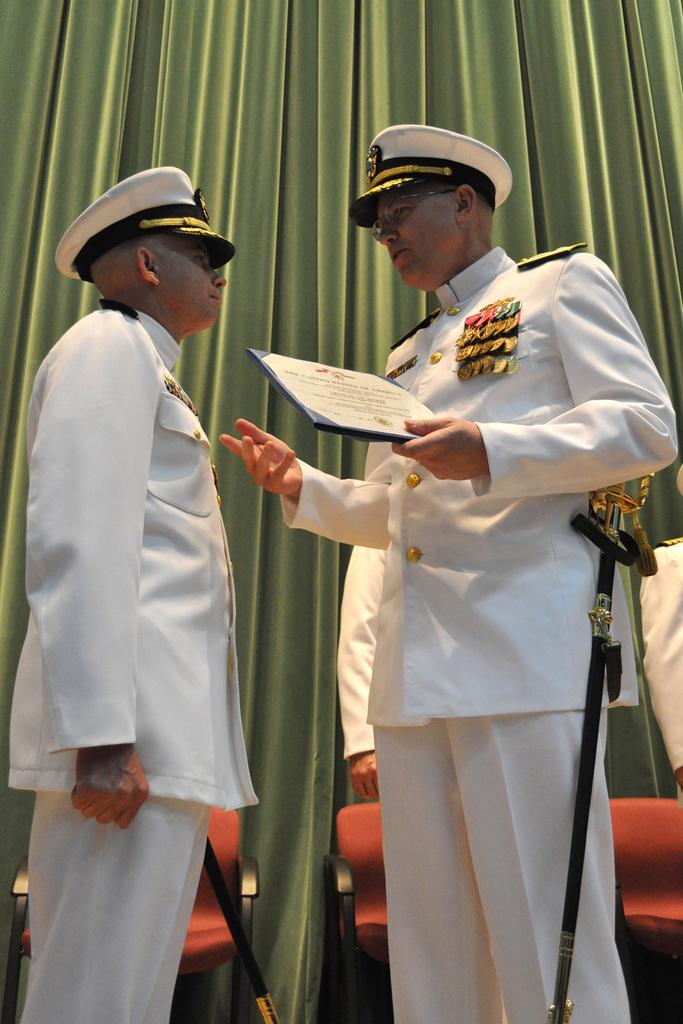Hat: (55, 168, 238, 284), (350, 125, 511, 230)
